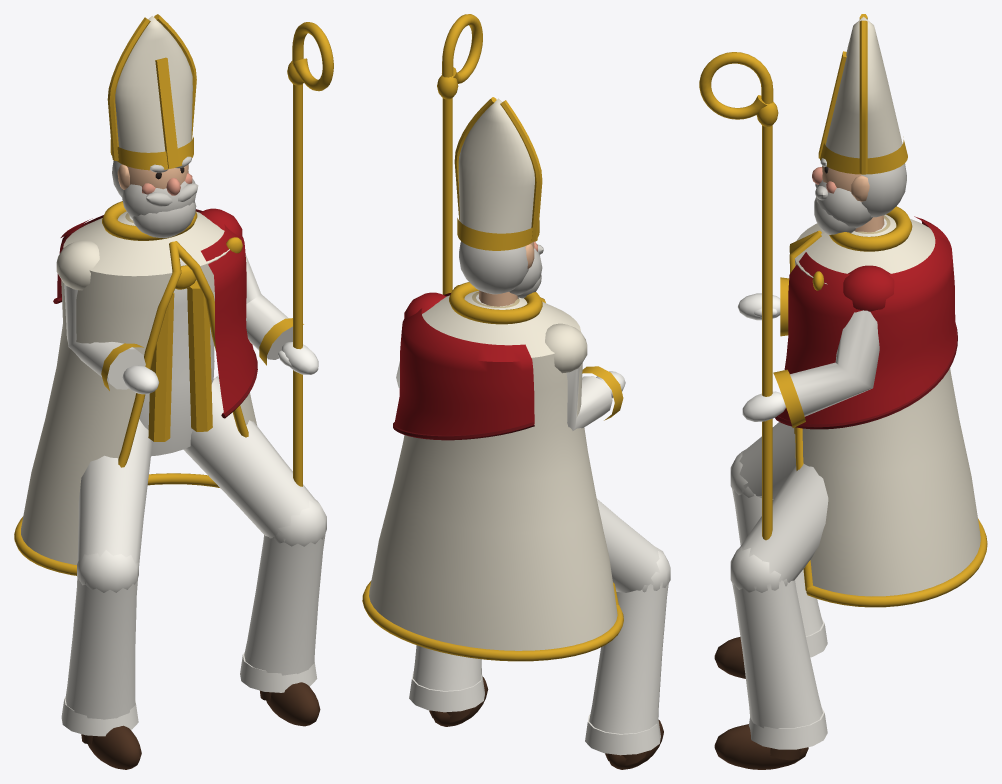
Rendered from sintmaarten.glb.
The picture shows the model from 3 angles, left to right: view 1: azimuth 30°, elevation 25°; view 2: azimuth 150°, elevation 25°; view 3: azimuth 270°, elevation 25°; orthographic projection. The views are drawn at different scales.
Visible parts, largest first — view 1: Body, Head, Arm_R; view 2: Body, Head, Arm_R; view 3: Body, Head, Arm_R.
Boxes of the visible parts, box(x1,y1,x2,y2) form: Body: box(14, 22, 333, 769); Head: box(107, 14, 198, 238); Arm_R: box(56, 240, 159, 394); Body: box(362, 14, 670, 769); Head: box(454, 97, 543, 306); Arm_R: box(545, 323, 625, 430); Body: box(699, 52, 987, 769); Head: box(812, 14, 907, 234); Arm_R: box(738, 277, 789, 336).
Bounding box in the file's own units: 0.7806 × 2.15 × 0.7772.
